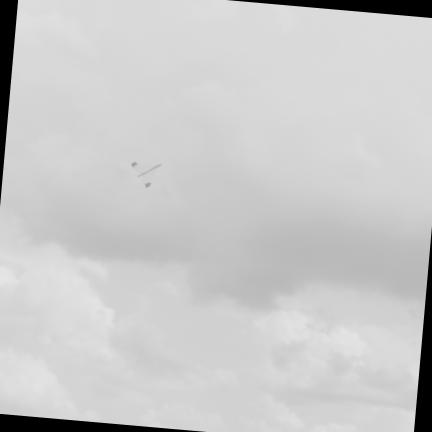Shahed: (131, 162, 161, 187)
